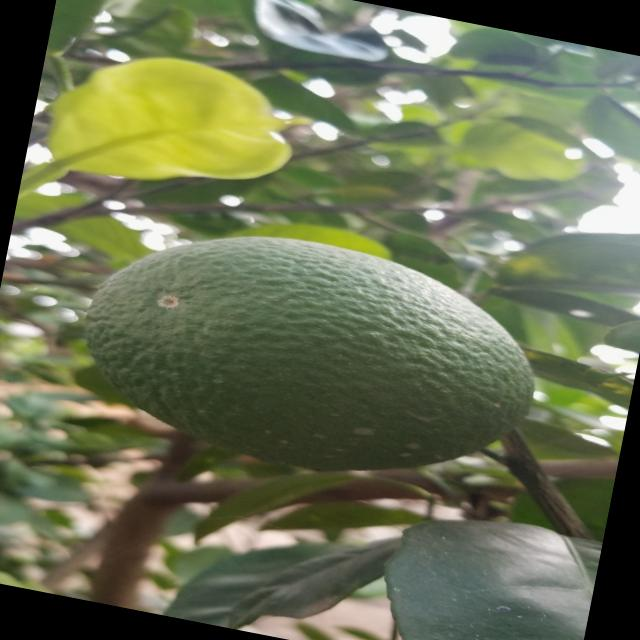Unripe: (50, 206, 564, 516)
